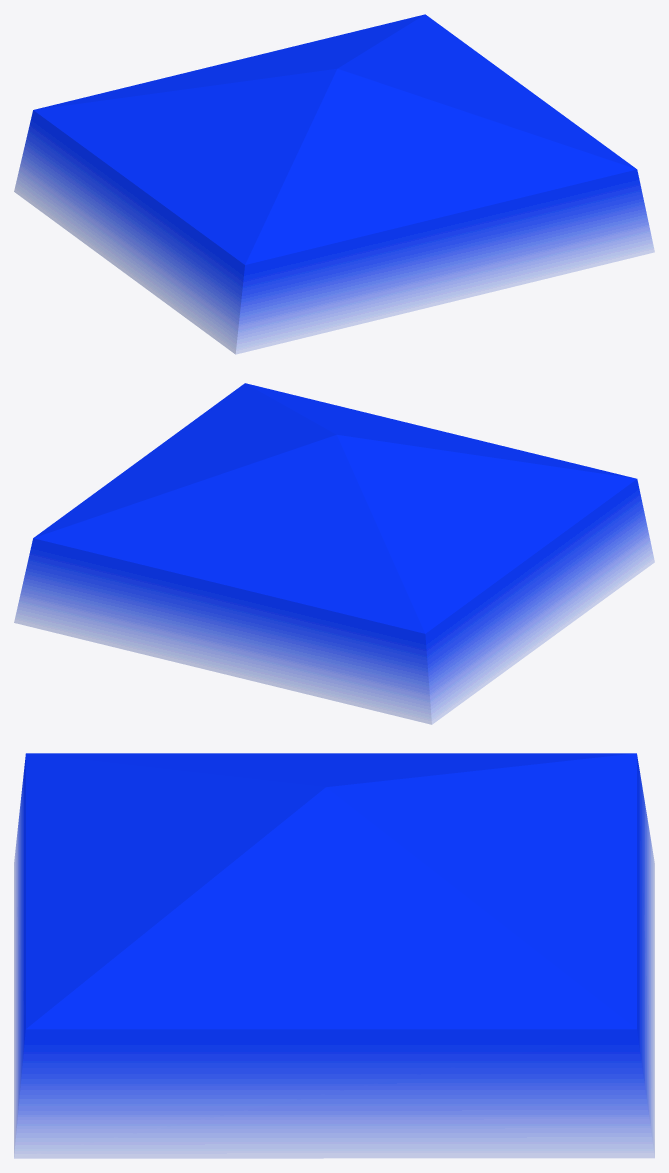
File: old_momo_64D_V.glb
3 views of the same model, one above another, from view 1: azimuth 30°, elevation 25°; view 2: azimuth 150°, elevation 25°; view 3: azimuth 270°, elevation 25° (orthographic). The views are drawn at different scales.
Parts seen in each view (by area): view 1: old_momo_64D_V; view 2: old_momo_64D_V; view 3: old_momo_64D_V.
Boxes of the visible parts, left/top/right/bottom form: old_momo_64D_V: left=14, top=14, right=654, bottom=354; old_momo_64D_V: left=14, top=383, right=654, bottom=724; old_momo_64D_V: left=14, top=753, right=654, bottom=1158.
Size of the model in its own units: 682 by 242 by 626.
Materials: 2 (2 with a texture image).
